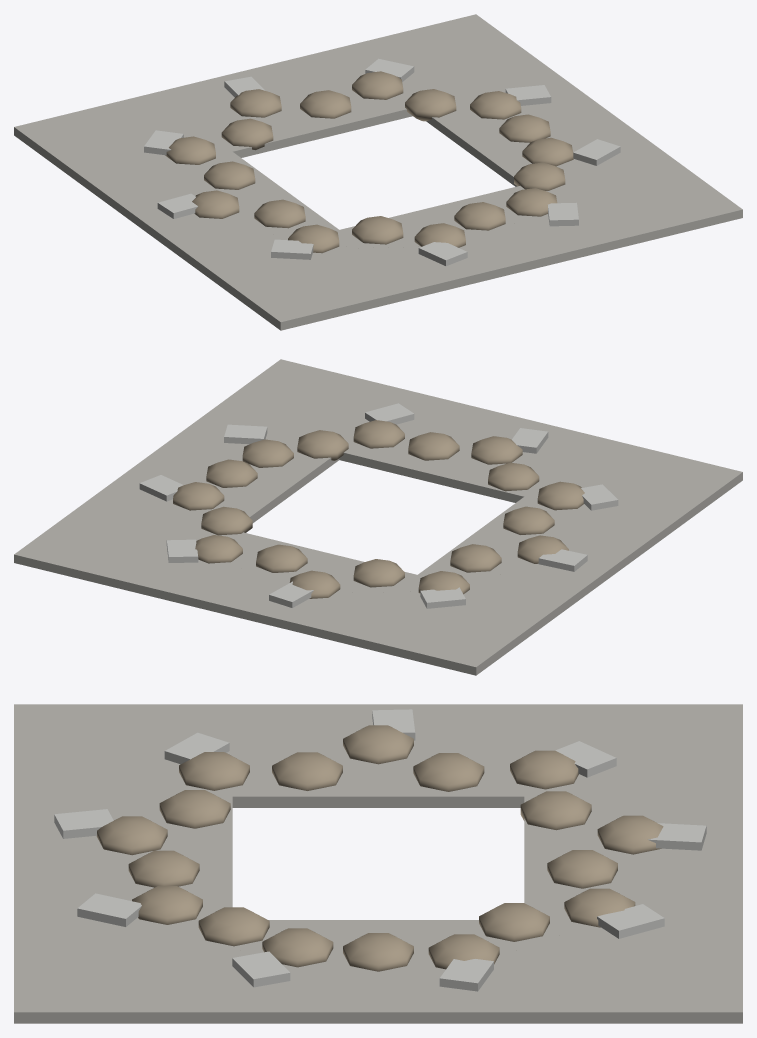
File: armoured-column-and-field-camp-road-crater-96abe64d__23711.glb
3 views of the same model, one above another, from view 1: azimuth 30°, elevation 25°; view 2: azimuth 150°, elevation 25°; view 3: azimuth 270°, elevation 25° (orthographic). The views are drawn at different scales.
Visible parts, largest first — view 1: road-crater; view 2: road-crater; view 3: road-crater.
Part boxes in pixels (x1,y1,x2,y2): road-crater: (14,14,742,330); road-crater: (14,359,742,675); road-crater: (14,704,742,1023).
Size of the model in its own units: 8 by 1.46 by 8.
